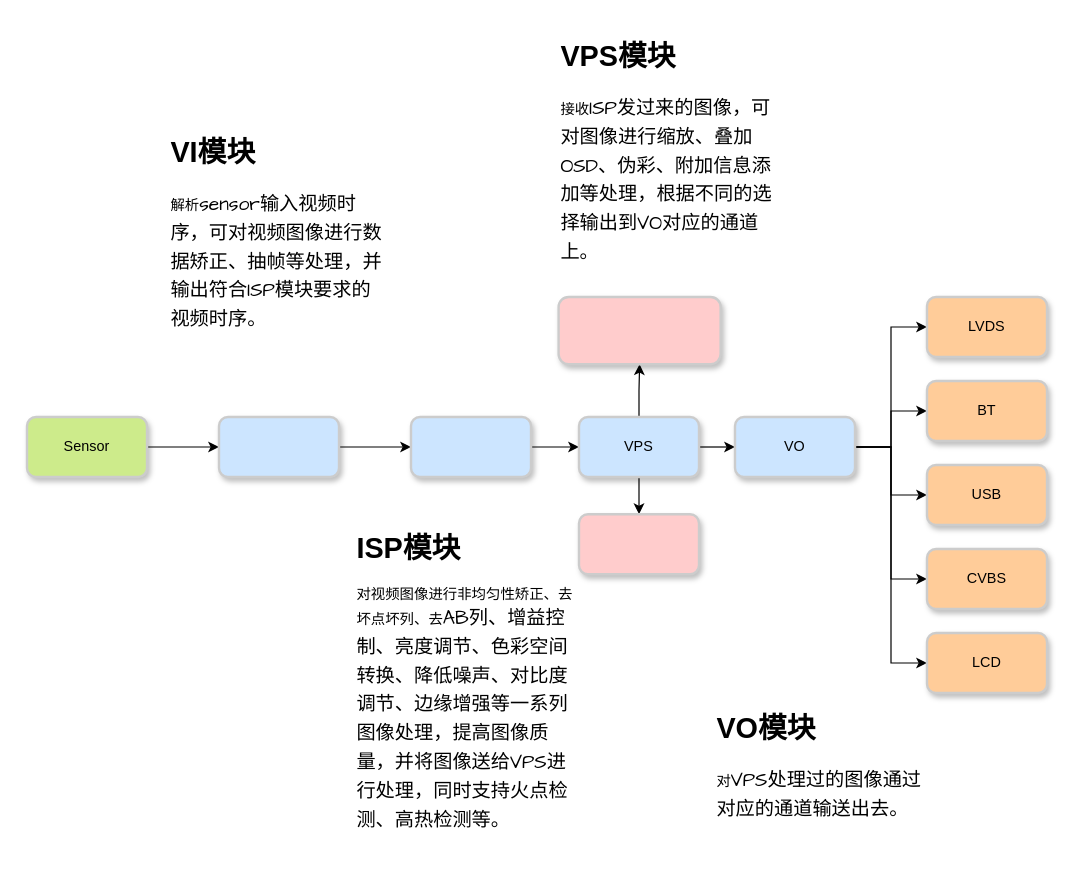
Image size: 1075x869. Some labels were removed from this diagram. Here are the shapes that lost their labels. From the top down, the centre of each, then its label:
At (x=640, y=331): "OSD （On Screen Display）".
At (x=279, y=448): "VI".
At (x=471, y=448): "ISP".
At (x=639, y=545): "伪彩".
